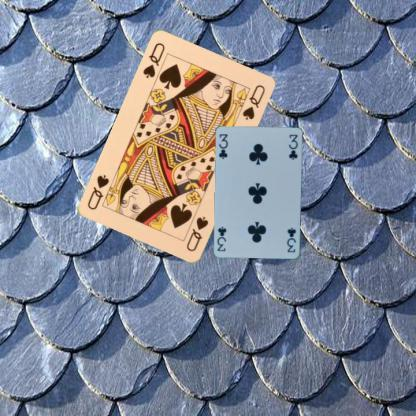3c: (284, 225, 298, 254), (217, 132, 229, 160)
Qs: (140, 40, 166, 80), (184, 214, 209, 252)
